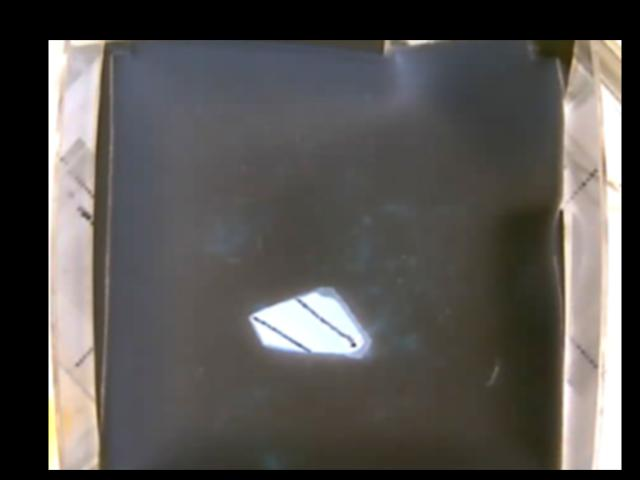China: (248, 284, 372, 359)
